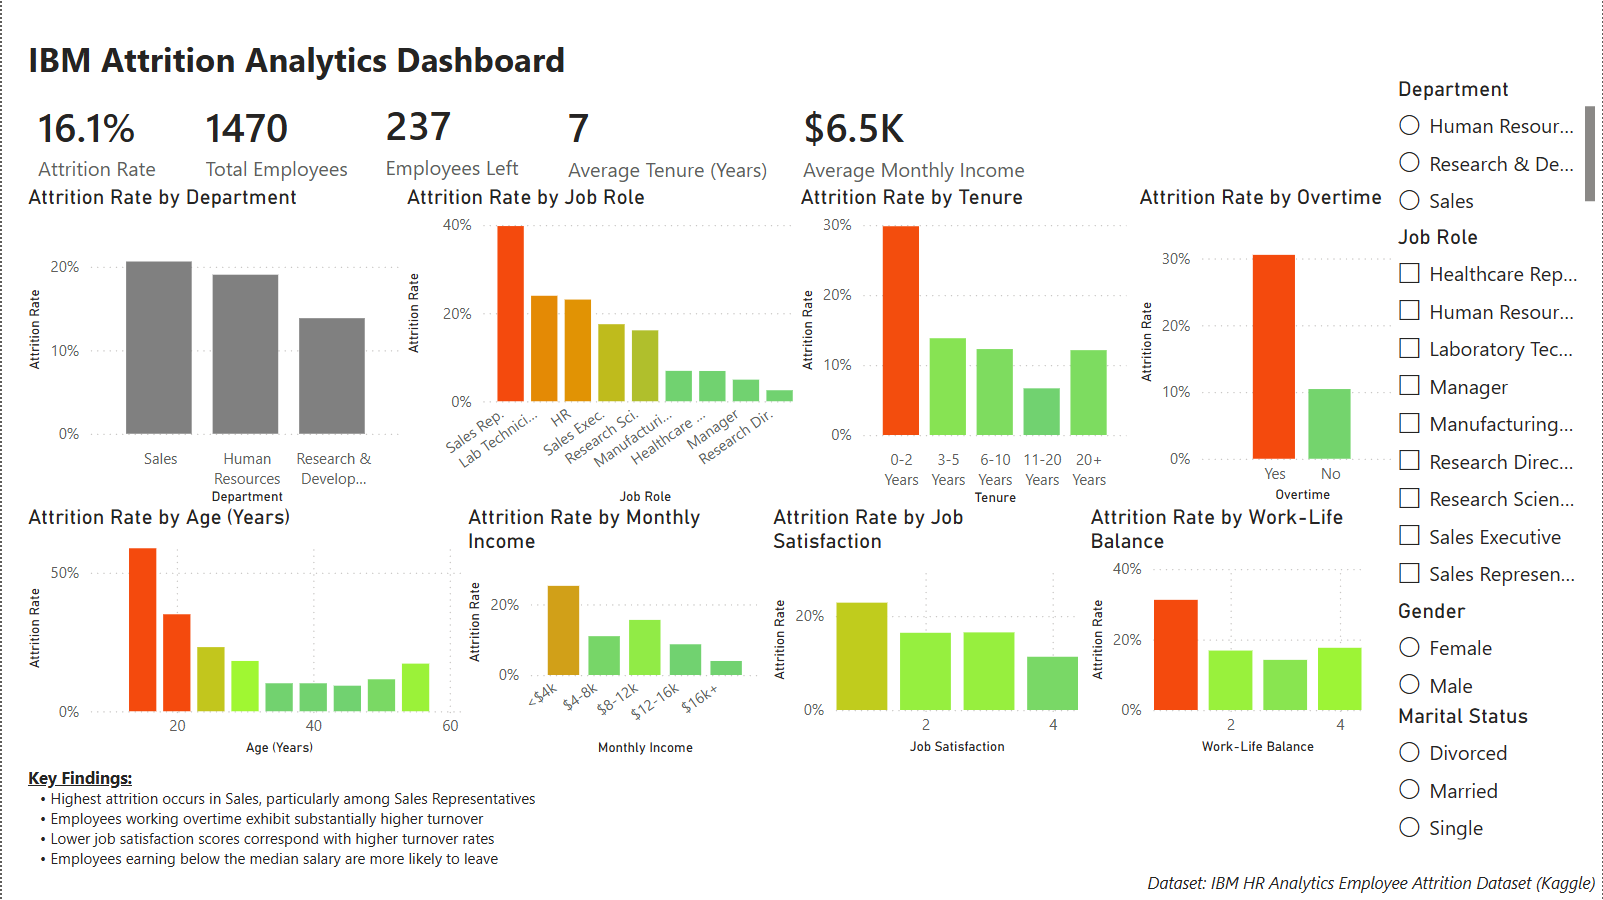

This screenshot's page, from the dashboard's own definition file:
{"tool":"powerbi","page":{"name":"Page 1","canvas":[1280,720],"ordinal":0},"visuals":[{"type":"cardVisual","fields":{"Data":["Sum(in.EmployeeCount)"]},"box":[134.2,60.5,175.5,103.5],"z":0},{"type":"cardVisual","fields":{"Data":["Avg(in.YearsAtCompany)"]},"box":[423.8,60.5,225.5,104.4],"z":1000},{"type":"cardVisual","fields":{"Data":["Avg(in.MonthlyIncome)"]},"box":[612.4,60.5,243,104.4],"z":2000},{"type":"cardVisual","fields":{"Data":["Employee Attrition Data.Attrition Rate"]},"box":[0,60.5,161.4,103.5],"z":3000},{"type":"cardVisual","fields":{"Data":["Employee Attrition Data.Employees Left"]},"box":[278.1,60.5,169.3,101.8],"z":4000},{"type":"clusteredColumnChart","fields":{"Category":["Employee Attrition Data.Department"],"Y":["Employee Attrition Data.Attrition Rate"]},"box":[15.8,146.5,309.7,261.5],"z":5000},{"type":"clusteredColumnChart","fields":{"Y":["Employee Attrition Data.Attrition Rate"],"Category":["Employee Attrition Data.Job Role Short"]},"box":[318.5,146.5,330.8,261.5],"z":6000},{"type":"clusteredColumnChart","fields":{"Category":["Employee Attrition Data.Tenure Group"],"Y":["Employee Attrition Data.Attrition Rate"]},"box":[634.4,146.5,270.3,262.4],"z":7000},{"type":"clusteredColumnChart","fields":{"Category":["Employee Attrition Data.OverTime"],"Y":["Employee Attrition Data.Attrition Rate"]},"box":[904.6,146.5,221.1,260.6],"z":8000},{"type":"clusteredColumnChart","fields":{"Y":["Employee Attrition Data.Attrition Rate"],"Category":["Employee Attrition Data.WorkLifeBalance"]},"box":[866,402.7,227.3,205.3],"z":9000},{"type":"clusteredColumnChart","fields":{"Category":["Employee Attrition Data.JobSatisfaction"],"Y":["Employee Attrition Data.Attrition Rate"]},"box":[612.4,402.7,253.6,205.3],"z":10000},{"type":"clusteredColumnChart","fields":{"Y":["Employee Attrition Data.Attrition Rate"],"Category":["Employee Attrition Data.Age (bins)"]},"box":[15.8,402.7,361.5,206.2],"z":11000},{"type":"textbox","box":[15.8,608.1,473.8,112.3],"z":12000},{"type":"textbox","box":[898.5,692.3,381.7,28.1],"z":13000},{"type":"listSlicer","fields":{"Values":["Employee Attrition Data.Department"]},"box":[1111.7,60.5,168.5,118.5],"z":14000},{"type":"textbox","box":[15.8,23.7,524.7,48.3],"z":15000},{"type":"clusteredColumnChart","fields":{"Category":["Employee Attrition Data.Monthly Income Group"],"Y":["Employee Attrition Data.Attrition Rate"]},"box":[367.6,402.7,243,206.2],"z":16000},{"type":"listSlicer","fields":{"Values":["Employee Attrition Data.JobRole"]},"box":[1111.7,179,168.5,299.2],"z":17000},{"type":"listSlicer","fields":{"Values":["Employee Attrition Data.Gender"]},"box":[1111.7,478.2,168.5,88.6],"z":18000},{"type":"listSlicer","fields":{"Values":["Employee Attrition Data.MaritalStatus"]},"box":[1111.7,561.6,168.5,122],"z":19000}]}

Visuals, with their boxes in screenshot pixels (x1, y1, x2, y2), scaled from the page's 1280x720 canvas onto the 1603x900 screenshot:
cardVisual - Sum(in.EmployeeCount): 168/76/388/205
cardVisual - Avg(in.YearsAtCompany): 531/76/813/206
cardVisual - Avg(in.MonthlyIncome): 767/76/1071/206
cardVisual - Employee Attrition Data.Attrition Rate: 0/76/202/205
cardVisual - Employee Attrition Data.Employees Left: 348/76/560/203
clusteredColumnChart - Employee Attrition Data.Department x Employee Attrition Data.Attrition Rate: 20/183/408/510
clusteredColumnChart - Employee Attrition Data.Attrition Rate x Employee Attrition Data.Job Role Short: 399/183/813/510
clusteredColumnChart - Employee Attrition Data.Tenure Group x Employee Attrition Data.Attrition Rate: 794/183/1133/511
clusteredColumnChart - Employee Attrition Data.OverTime x Employee Attrition Data.Attrition Rate: 1133/183/1410/509
clusteredColumnChart - Employee Attrition Data.Attrition Rate x Employee Attrition Data.WorkLifeBalance: 1085/503/1369/760
clusteredColumnChart - Employee Attrition Data.JobSatisfaction x Employee Attrition Data.Attrition Rate: 767/503/1085/760
clusteredColumnChart - Employee Attrition Data.Attrition Rate x Employee Attrition Data.Age (bins): 20/503/473/761
textbox: 20/760/613/899
textbox: 1125/865/1602/899
listSlicer - Employee Attrition Data.Department: 1392/76/1602/224
textbox: 20/30/677/90
clusteredColumnChart - Employee Attrition Data.Monthly Income Group x Employee Attrition Data.Attrition Rate: 460/503/765/761
listSlicer - Employee Attrition Data.JobRole: 1392/224/1602/598
listSlicer - Employee Attrition Data.Gender: 1392/598/1602/708
listSlicer - Employee Attrition Data.MaritalStatus: 1392/702/1602/854
